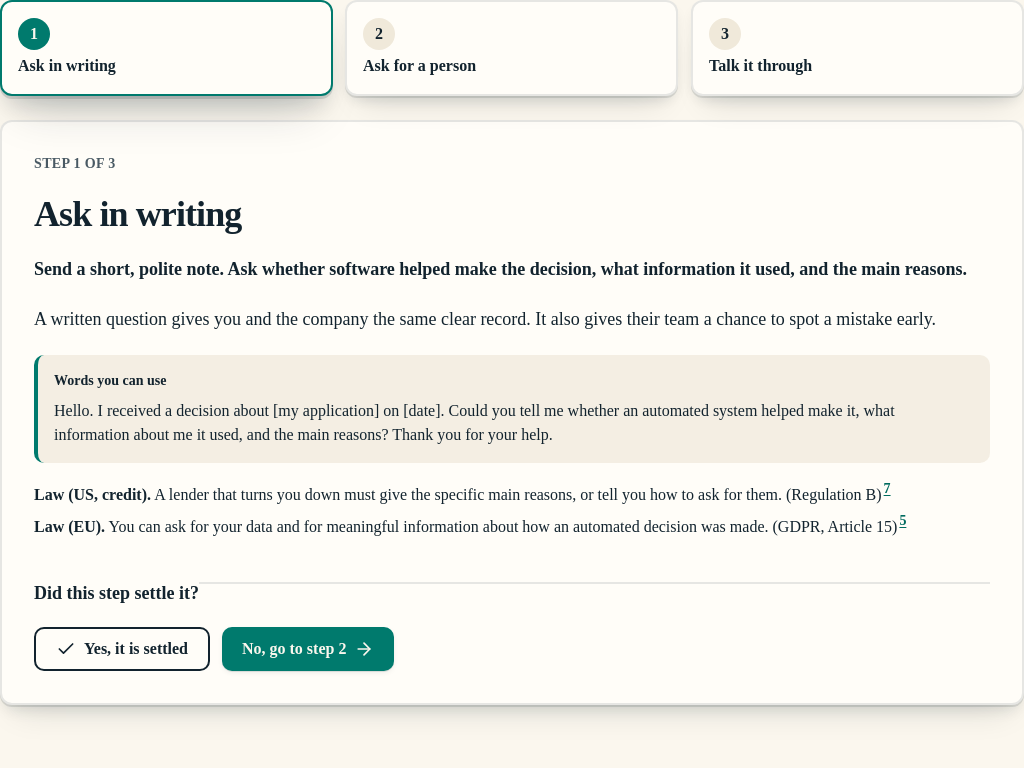
Scenario: AlgorithmExplorer › goes back a step, and ends the tree when a step settles it
Click the button "No, go to step 2": click(308, 649) [222,627,394,671]
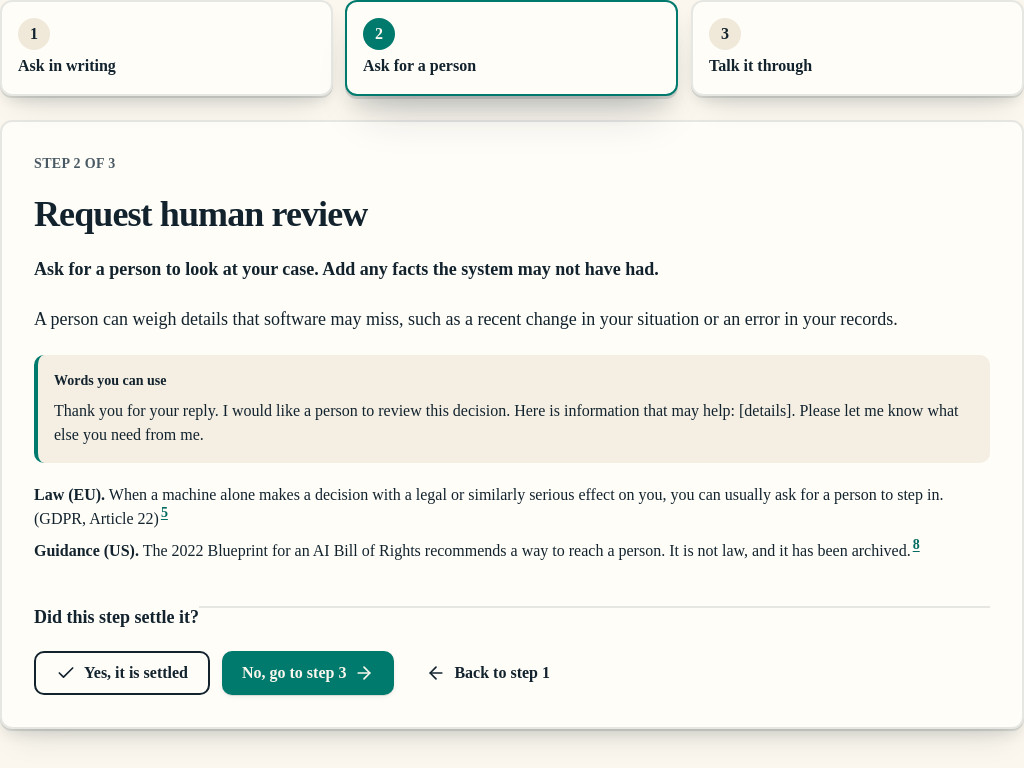
Click the button "Back to step 1": click(488, 673) [406,651,570,695]
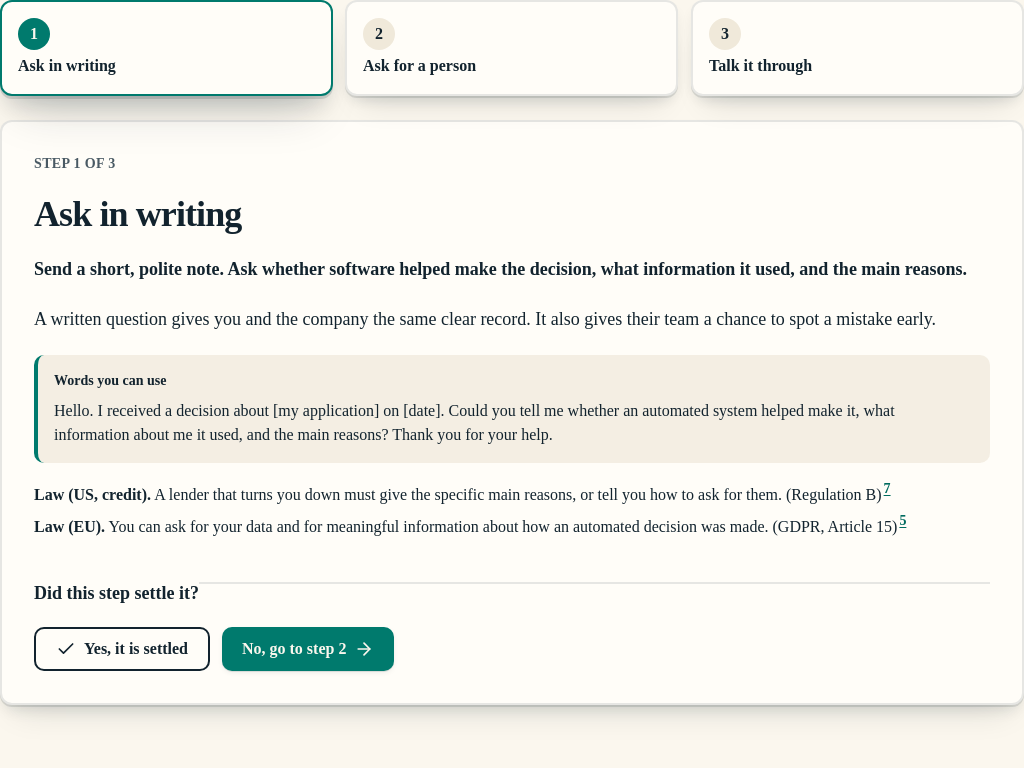
Click the button "Yes, it is settled": click(122, 649) [34,627,210,671]
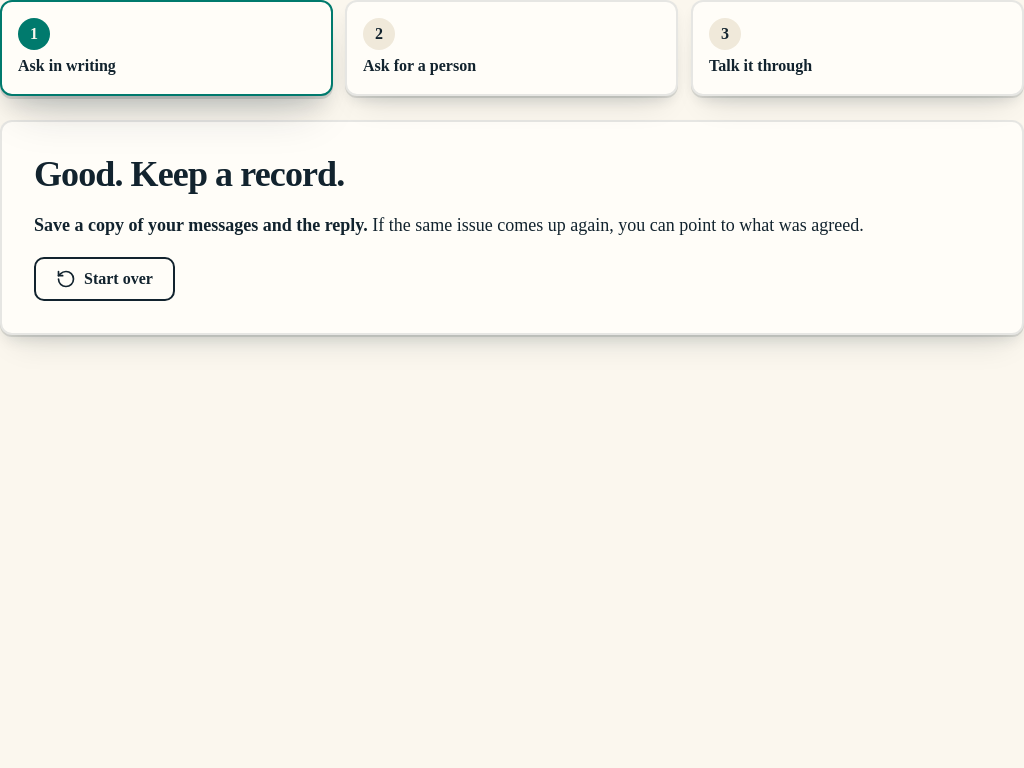
expect the heading "Good. Keep a record." is shown: met, box [34,154,344,194]
Click the button "Start over": click(104, 279) [34,257,175,301]
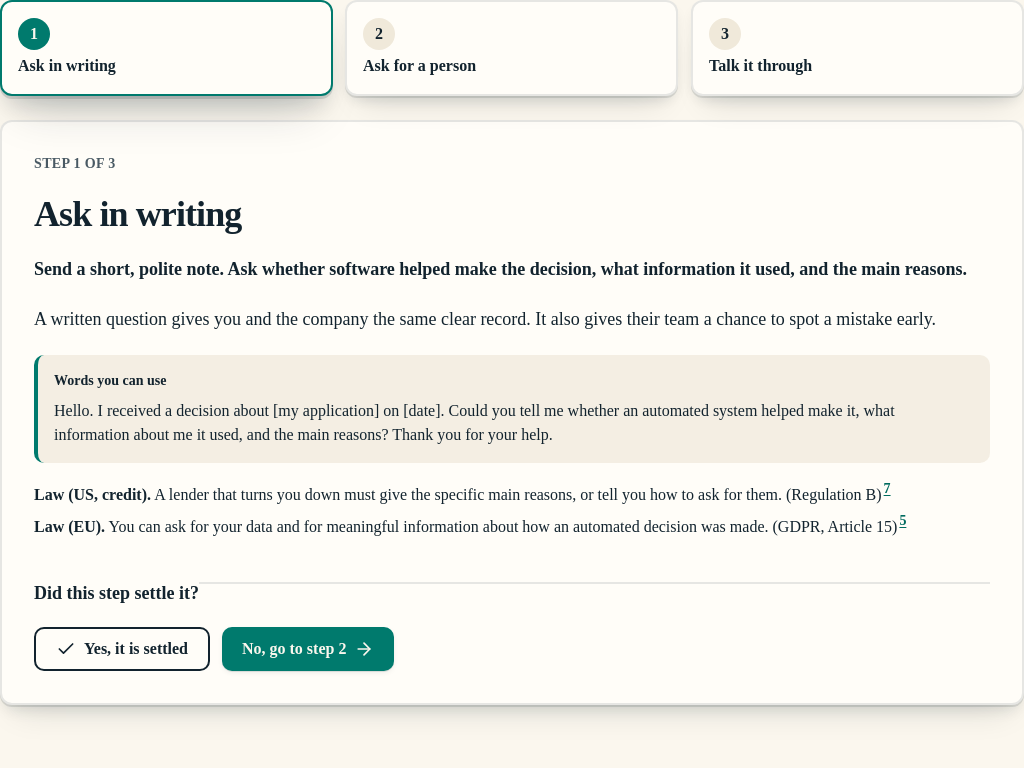
expect the heading "Ask in writing" is shown: met, box [34,194,242,234]
